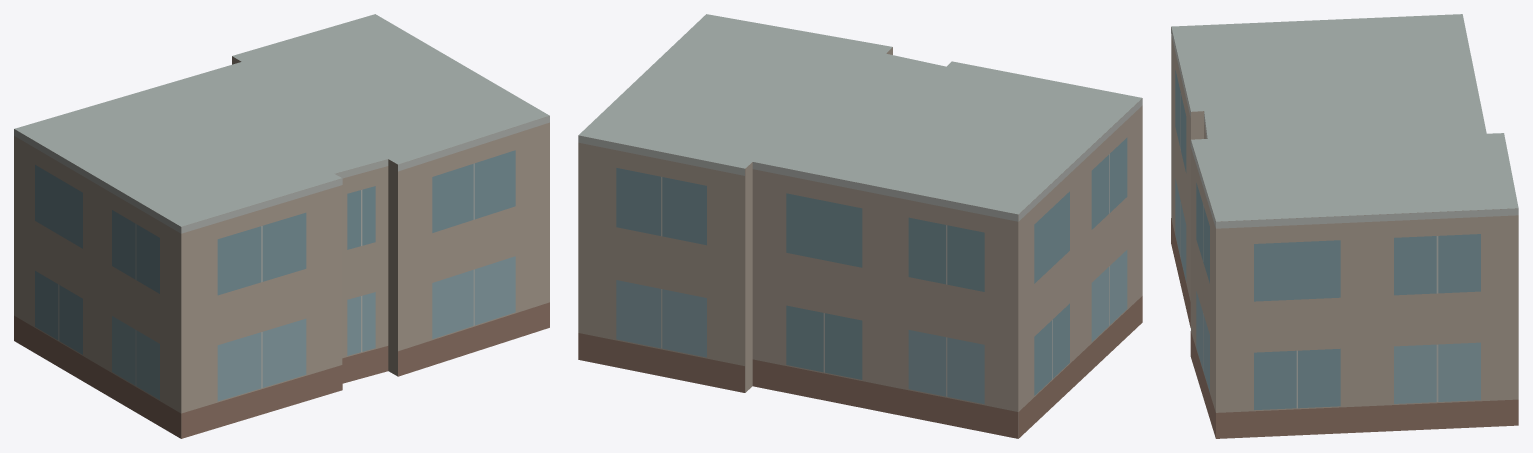
The model's file is survey-upis-32537413.glb.
3 views of the same model, side by side, from view 1: azimuth 30°, elevation 25°; view 2: azimuth 150°, elevation 25°; view 3: azimuth 270°, elevation 25° (orthographic). The views are drawn at different scales.
Visible parts, largest first — view 1: survey-upis-32537413.tmp; view 2: survey-upis-32537413.tmp; view 3: survey-upis-32537413.tmp.
Part boxes in pixels (left/top/right/bottom): survey-upis-32537413.tmp: left=14, top=14, right=549, bottom=438; survey-upis-32537413.tmp: left=578, top=14, right=1142, bottom=438; survey-upis-32537413.tmp: left=1171, top=14, right=1518, bottom=438.
Size of the model in its own units: 15.39 by 7.5 by 10.88.
